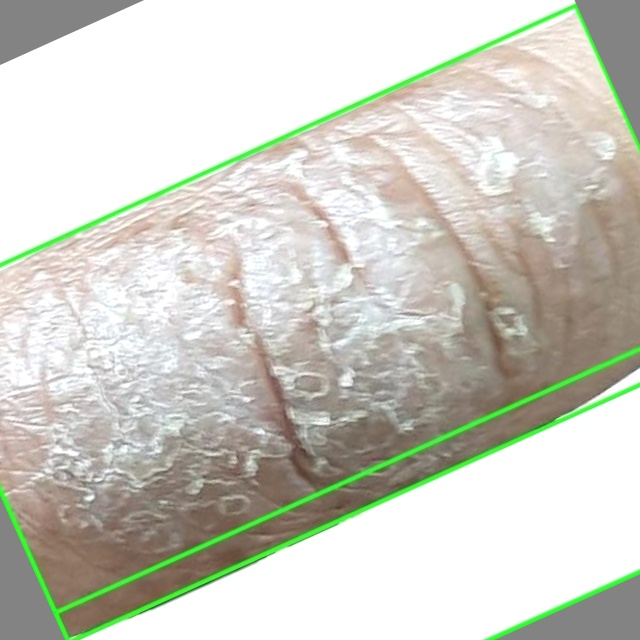Eczema: (0, 6, 639, 639)
